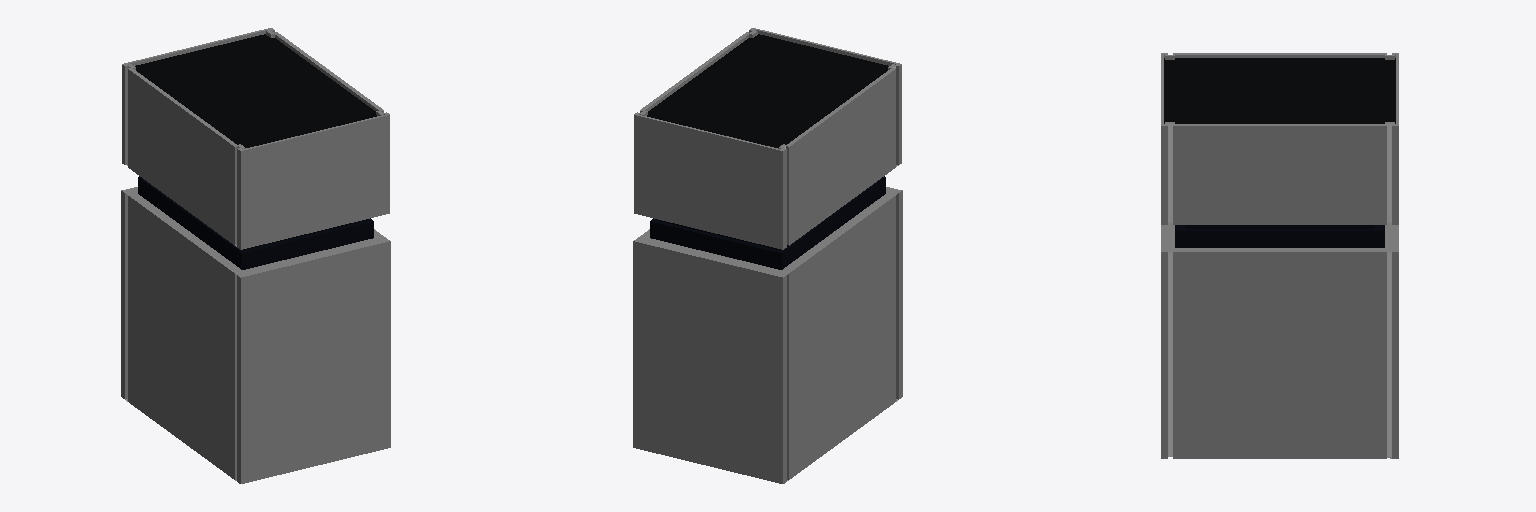
Rendered from buildingK1.obj.
3 views of the same model, side by side, from view 1: azimuth 30°, elevation 25°; view 2: azimuth 150°, elevation 25°; view 3: azimuth 270°, elevation 25° (orthographic).
Parts seen in each view (by area): view 1: Cube.018_Cube.020; view 2: Cube.018_Cube.020; view 3: Cube.018_Cube.020.
Boxes of the visible parts, x1,y1,x2,y2 form: Cube.018_Cube.020: [121, 28, 390, 483]; Cube.018_Cube.020: [633, 28, 902, 483]; Cube.018_Cube.020: [1161, 53, 1398, 458].
Size of the model in its own units: 26.61 by 56.51 by 36.64.